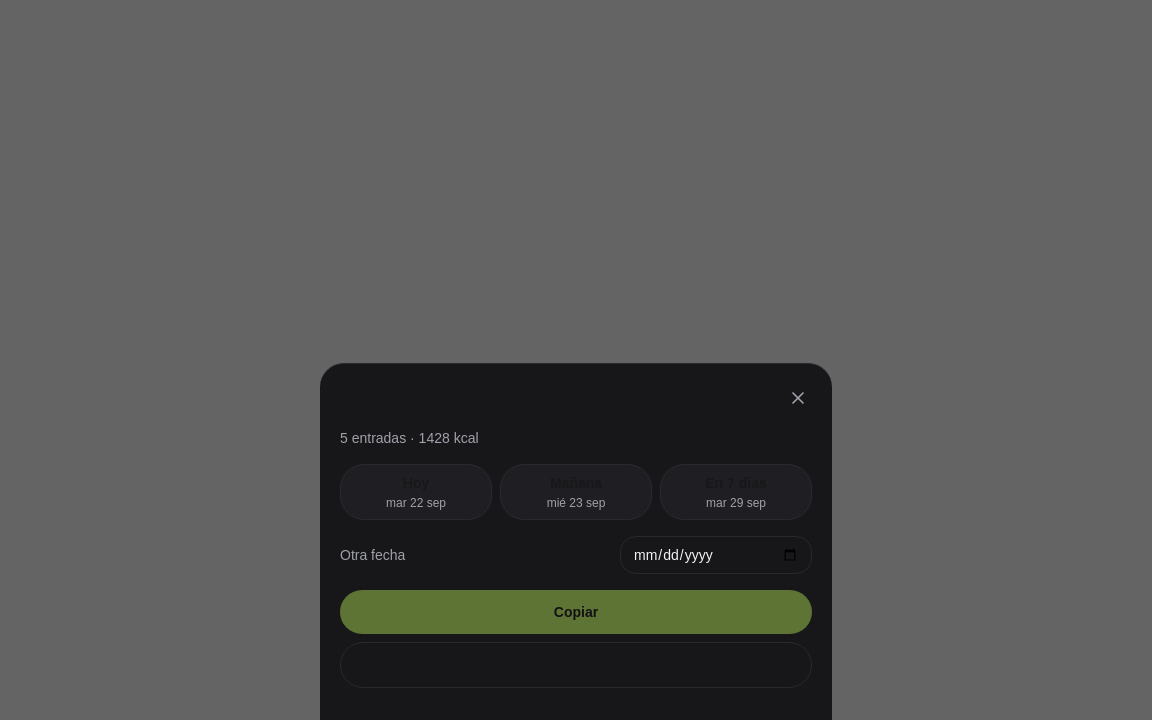
Scenario: R7: atajos y botón principal › el botón nombra el destino: «a mañana» y «al mar 29 sep» (En 7 días)
Click the button "Mañana mié 23 sep" at (576, 492), box x1=500 y1=464 x2=652 y2=520
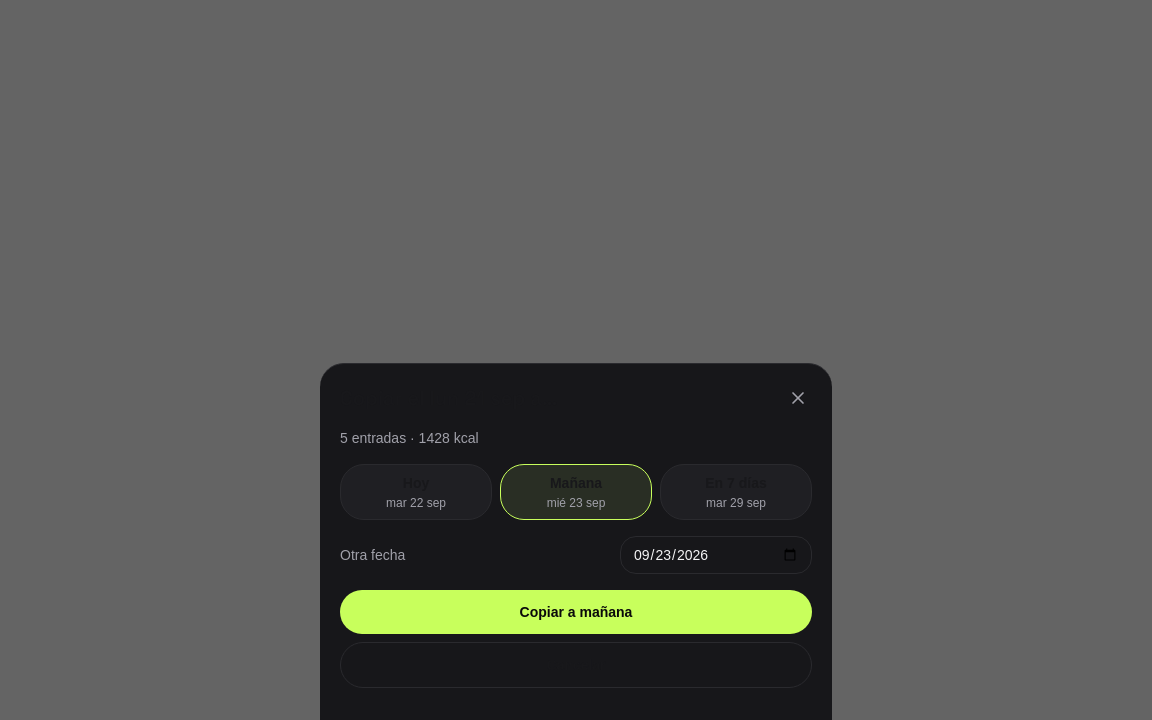
Check: the button "Copiar a mañana" is shown, box x1=340 y1=590 x2=812 y2=634
Click the button "En 7 días mar 29 sep" at (736, 492), box x1=660 y1=464 x2=812 y2=520
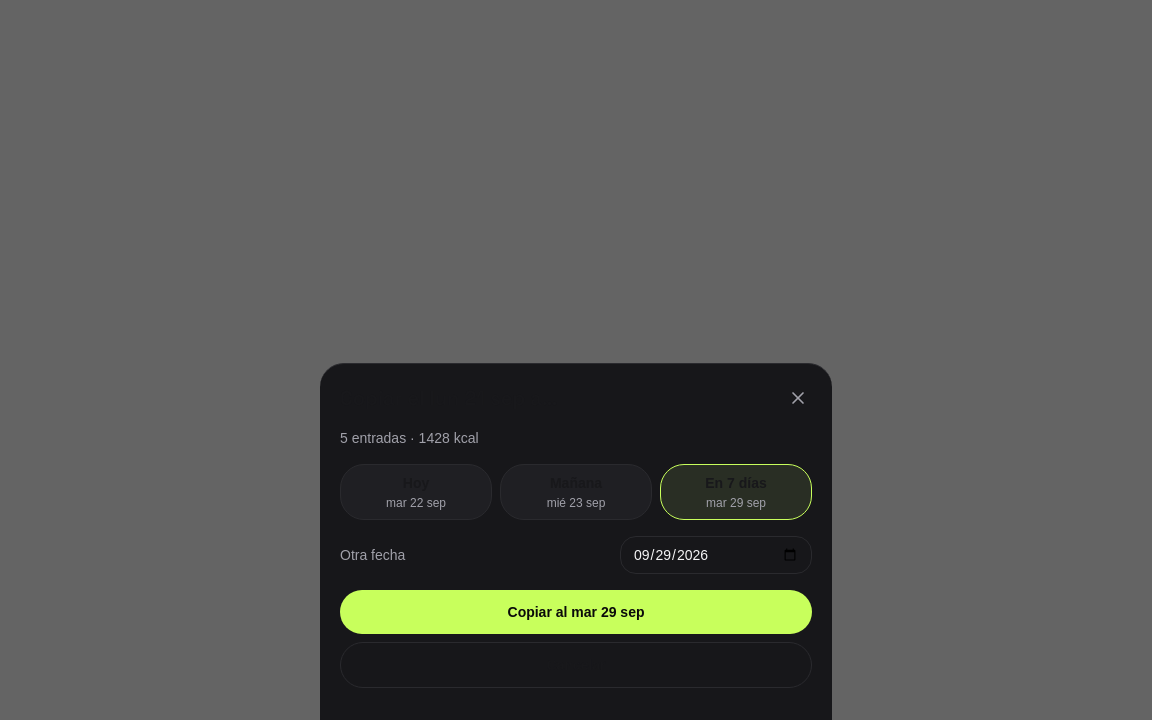
Check: the button "Copiar al mar 29 sep" is shown, box x1=340 y1=590 x2=812 y2=634
